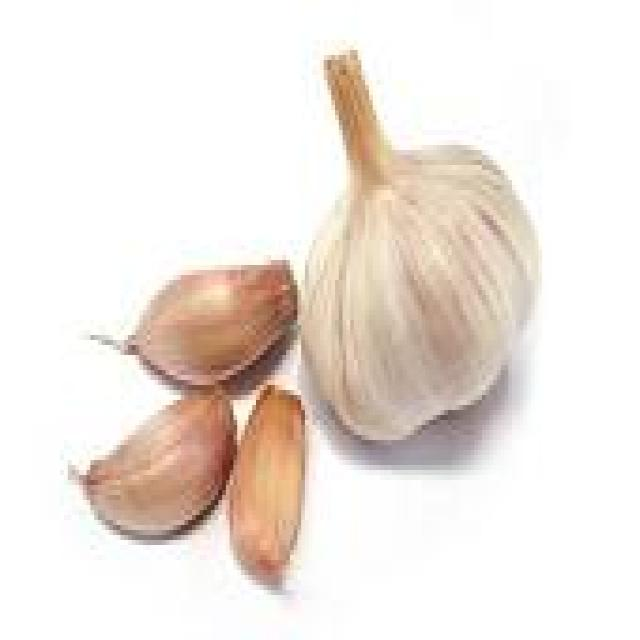garlic: (290, 131, 546, 461)
